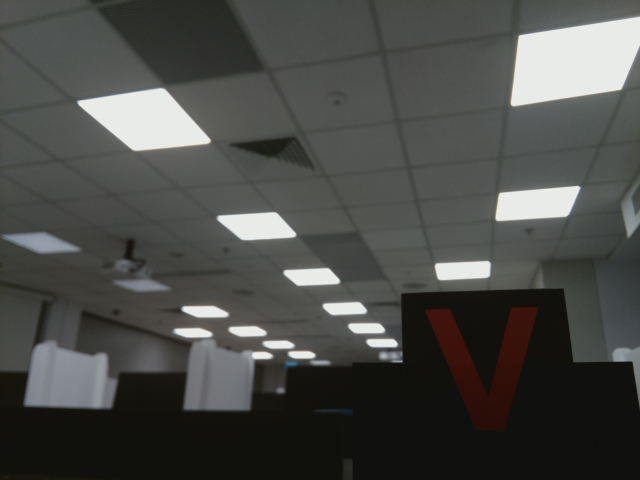v: (412, 302, 559, 441)
